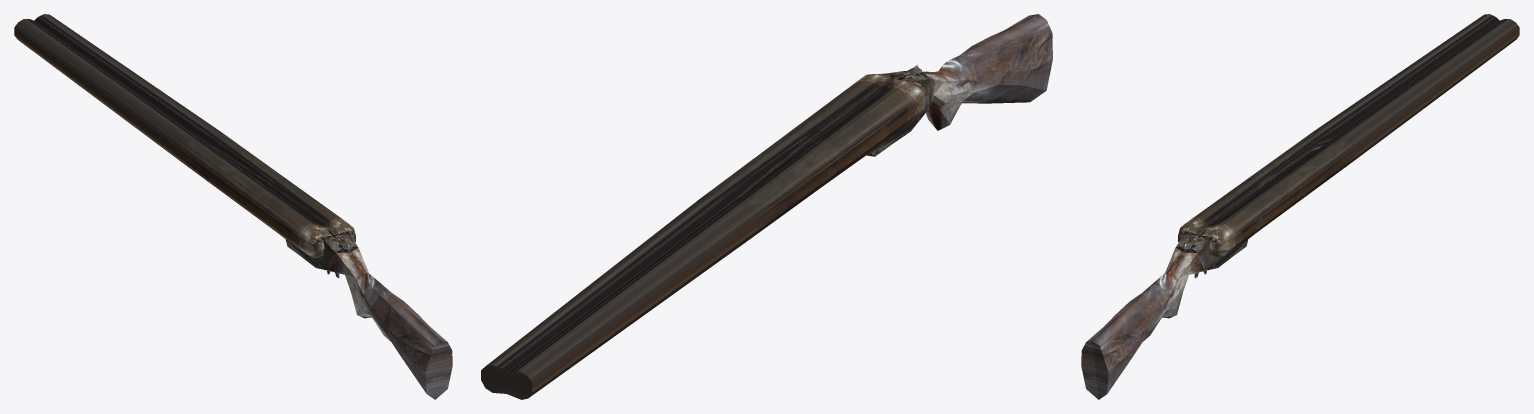
The model's file is yeomanV1.glb.
The picture shows the model from 3 angles, left to right: view 1: azimuth 30°, elevation 25°; view 2: azimuth 150°, elevation 25°; view 3: azimuth 330°, elevation 25°; orthographic projection. The views are drawn at different scales.
Parts seen in each view (by area): view 1: yeoman; view 2: yeoman; view 3: yeoman.
Boxes of the visible parts, <box> form: yeoman: <box>14,14,452,399</box>; yeoman: <box>481,14,1052,399</box>; yeoman: <box>1081,14,1519,399</box>.
Size of the model in its own units: 0.1292 by 0.2417 by 1.83.
Materials: 2 (2 with a texture image).
